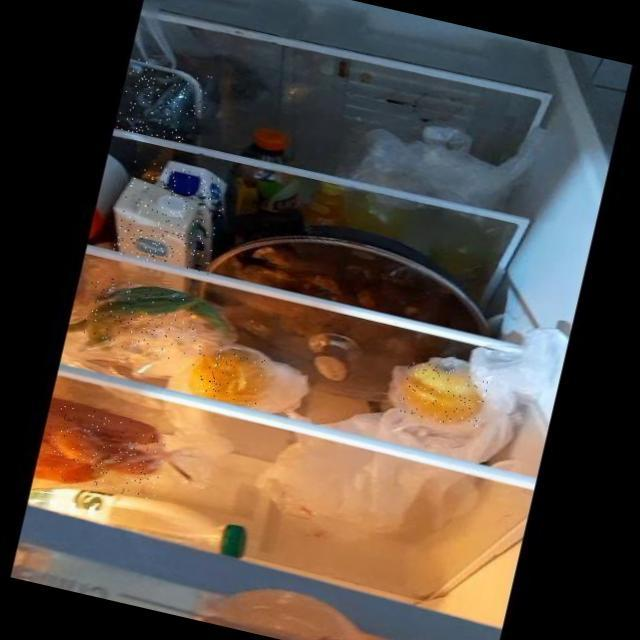Brocoli: (115, 56, 211, 146)
Limón: (396, 359, 489, 432), (186, 342, 265, 406)
Zanahoria: (34, 400, 170, 500)
green chilies: (76, 273, 204, 364)
milk: (112, 156, 229, 273)
